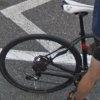Bicycle: (2, 4, 90, 93)
